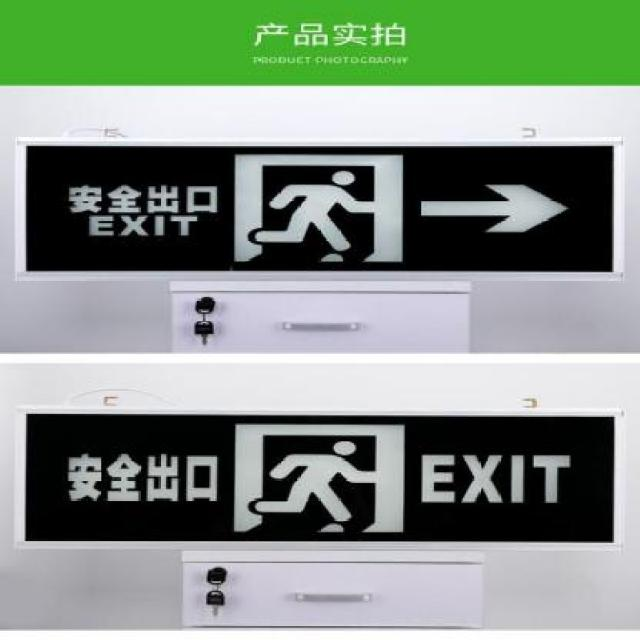exit_sign: (25, 129, 622, 274), (32, 408, 614, 555)
